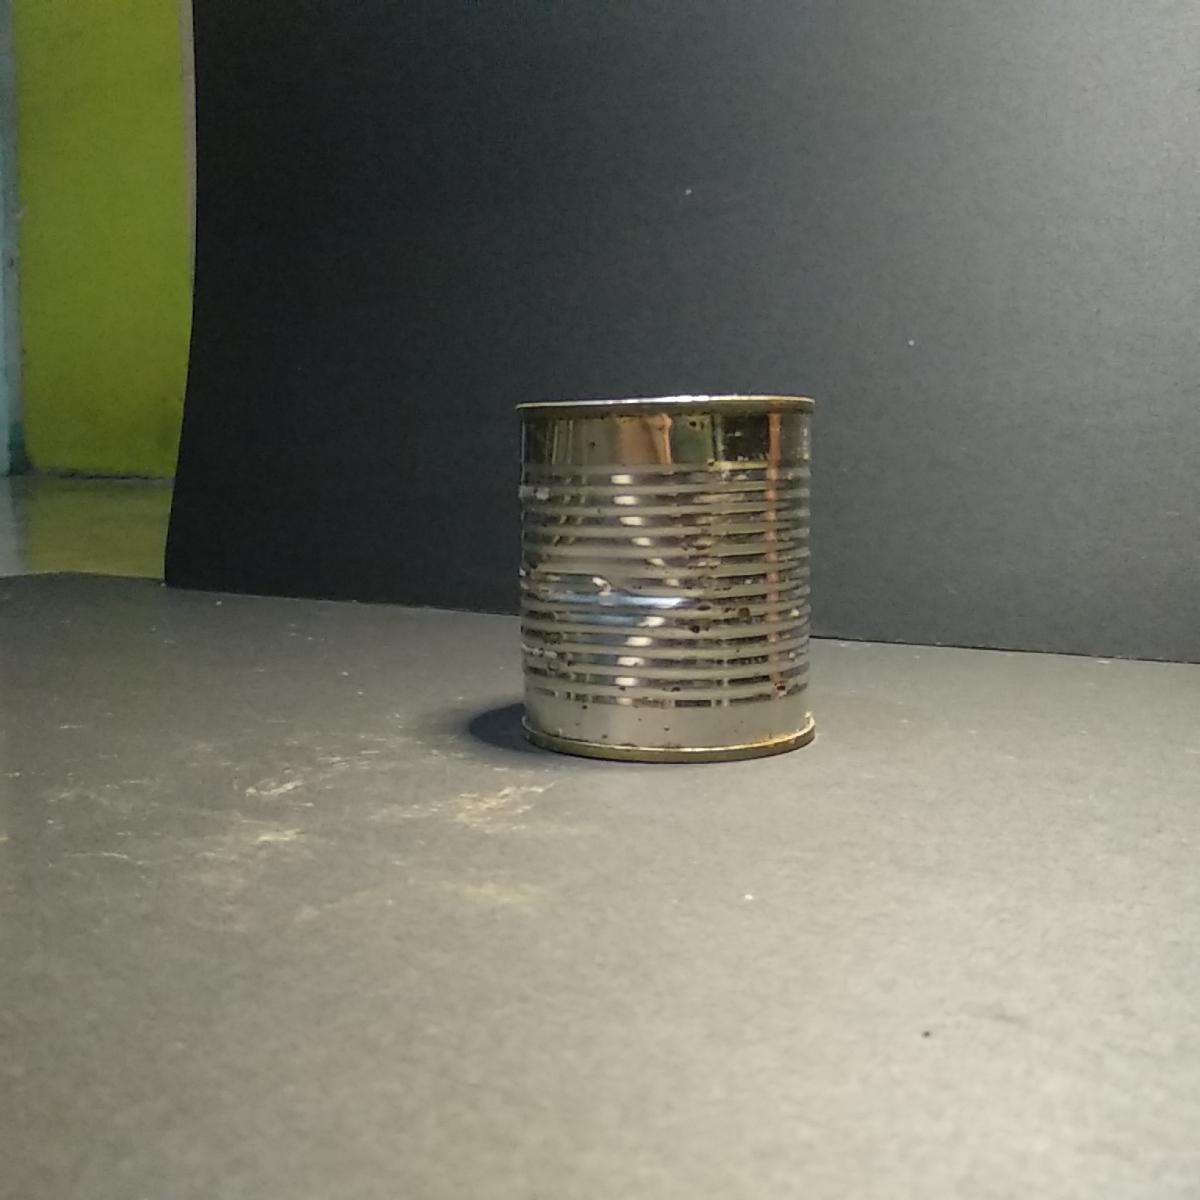Dented: (496, 376, 824, 778)
